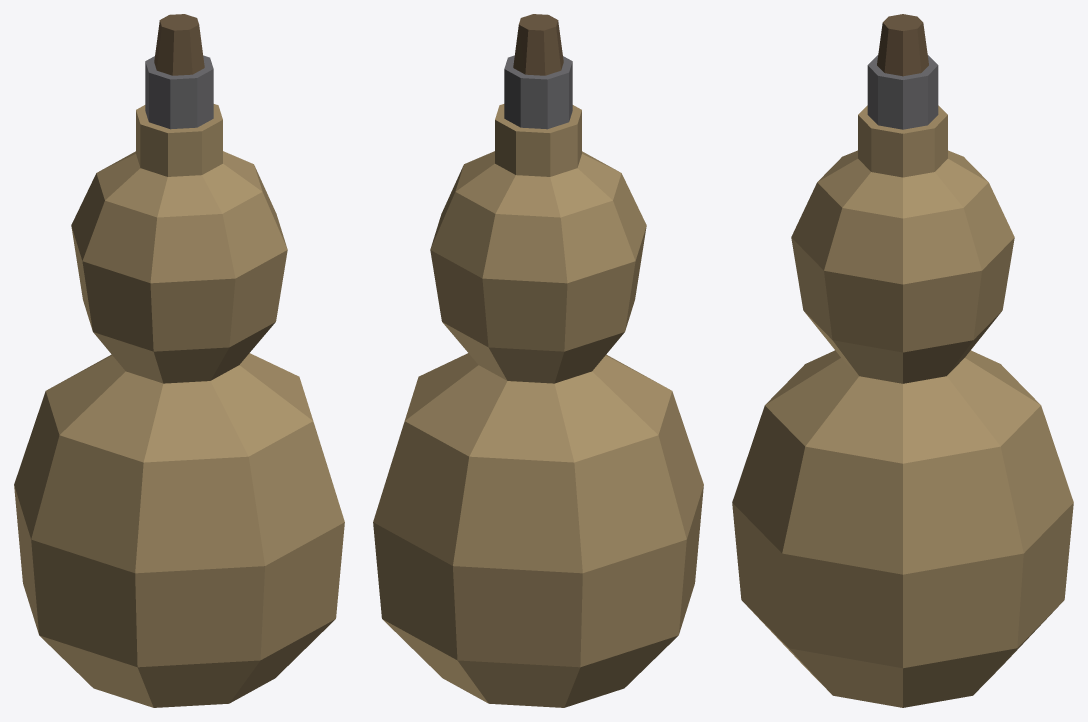
The model's file is gourd.glb.
The picture shows the model from 3 angles, left to right: view 1: azimuth 30°, elevation 25°; view 2: azimuth 150°, elevation 25°; view 3: azimuth 270°, elevation 25°; orthographic projection.
Visible parts, largest first — view 1: SM_Item_Gourd_01; view 2: SM_Item_Gourd_01; view 3: SM_Item_Gourd_01.
Part boxes in pixels (x1=…): SM_Item_Gourd_01: x1=14, y1=14, x2=344, y2=707; SM_Item_Gourd_01: x1=373, y1=14, x2=703, y2=707; SM_Item_Gourd_01: x1=732, y1=14, x2=1073, y2=707.
Size of the model in its own units: 10.11 by 21 by 10.11.
Materials: 1 (1 with a texture image).
